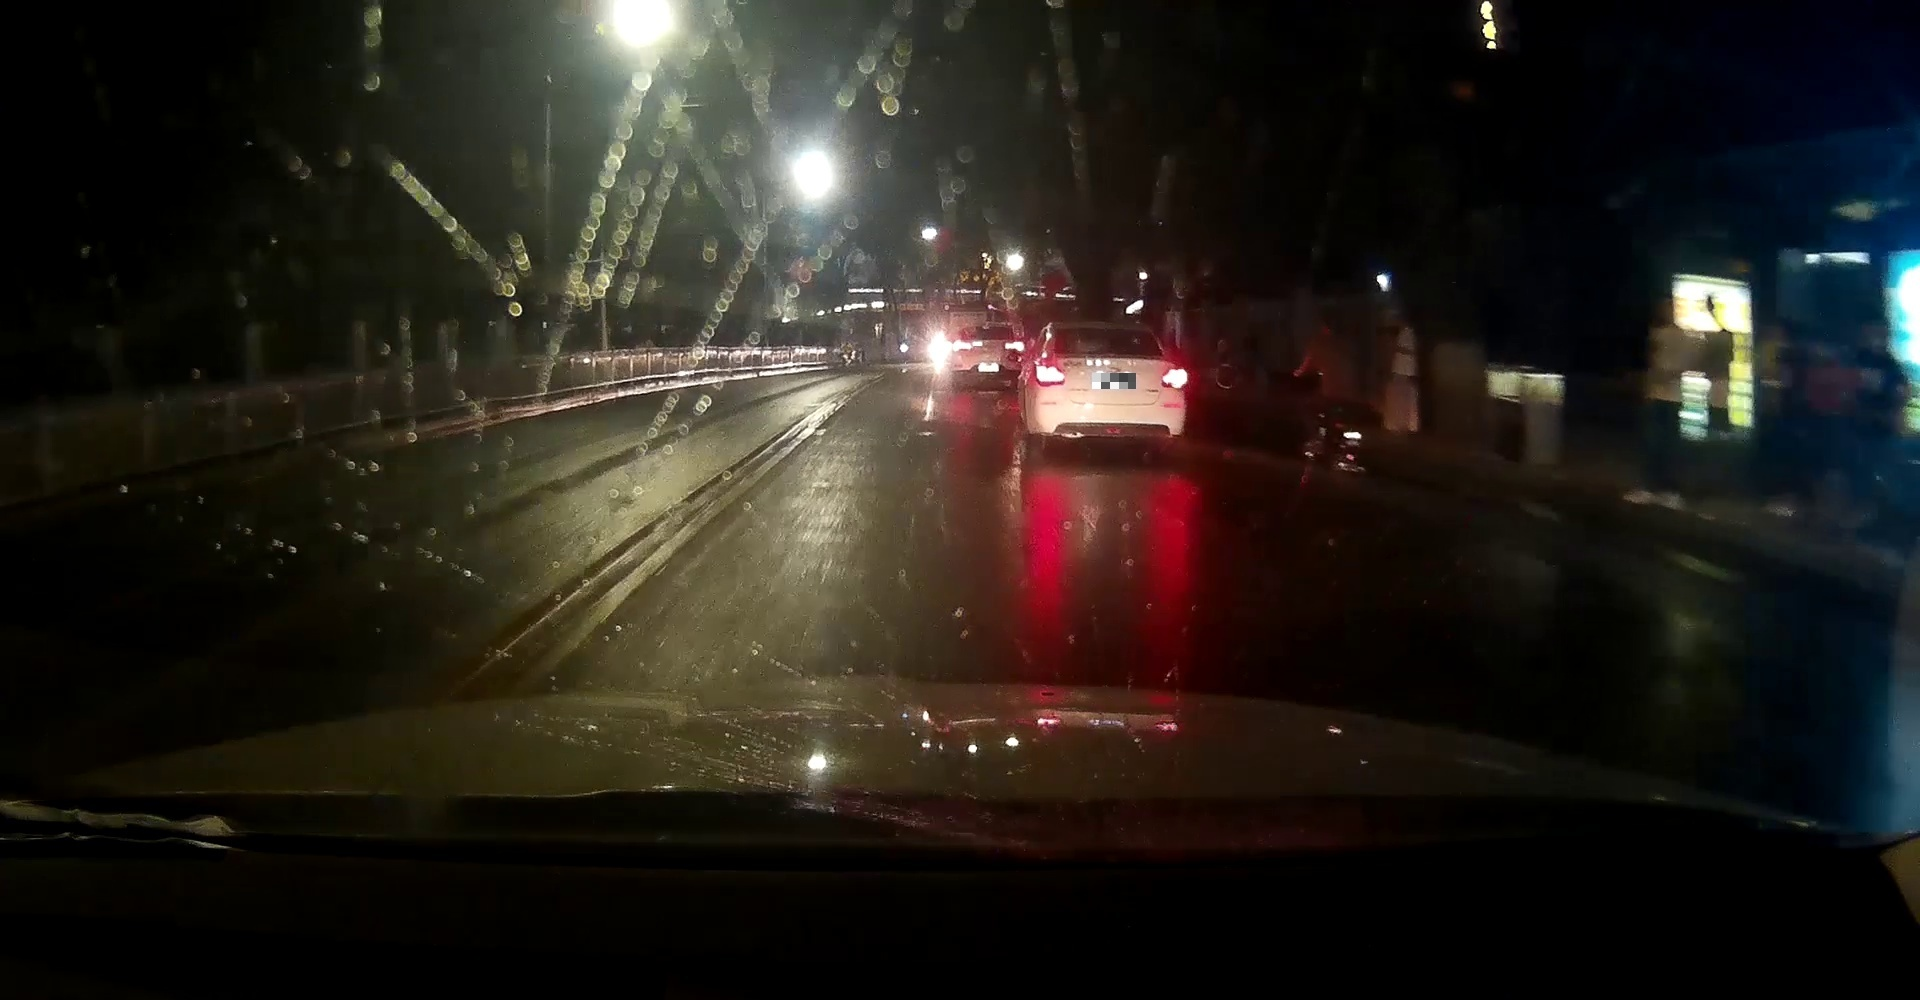L_light: (1035, 364, 1065, 386)
R_light: (1162, 367, 1187, 388), (1098, 327, 1123, 334)
night-right: (1022, 319, 1189, 459)
plate_1: (1092, 373, 1137, 390)
